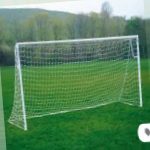goals: (4, 33, 146, 130)
